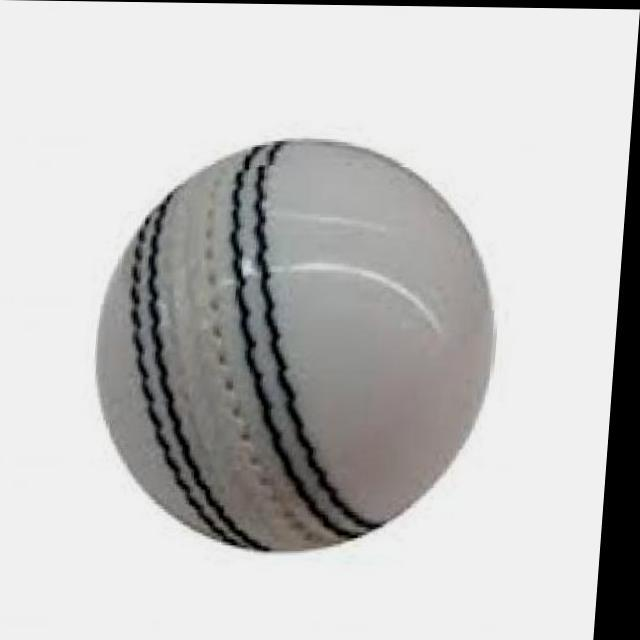-: (102, 144, 511, 541)
